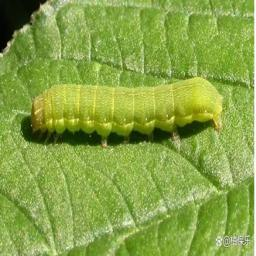Tobacco_budworm: (28, 76, 224, 145)
